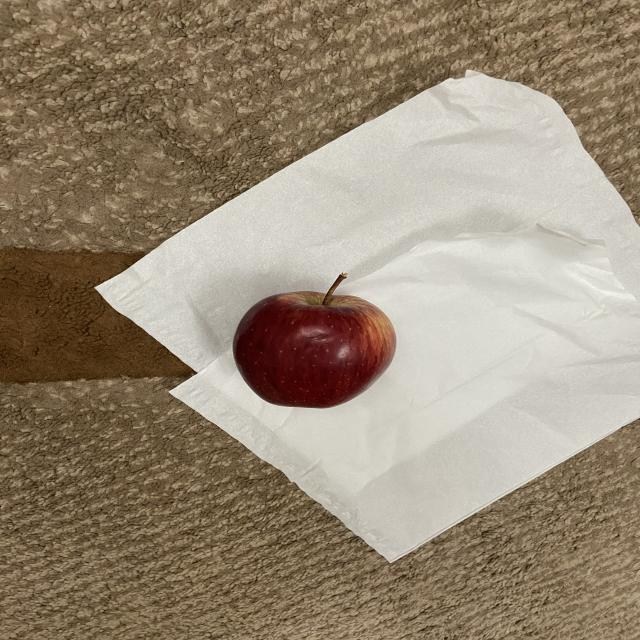apple: (232, 268, 404, 413)
